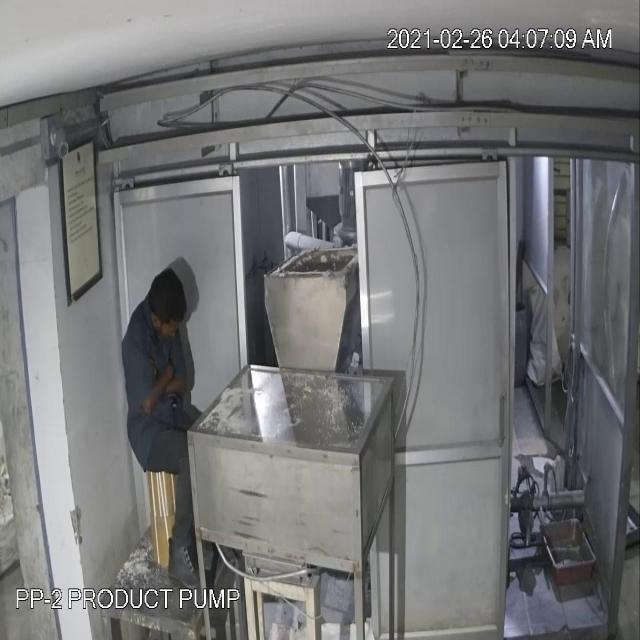no hat: (148, 264, 190, 340)
